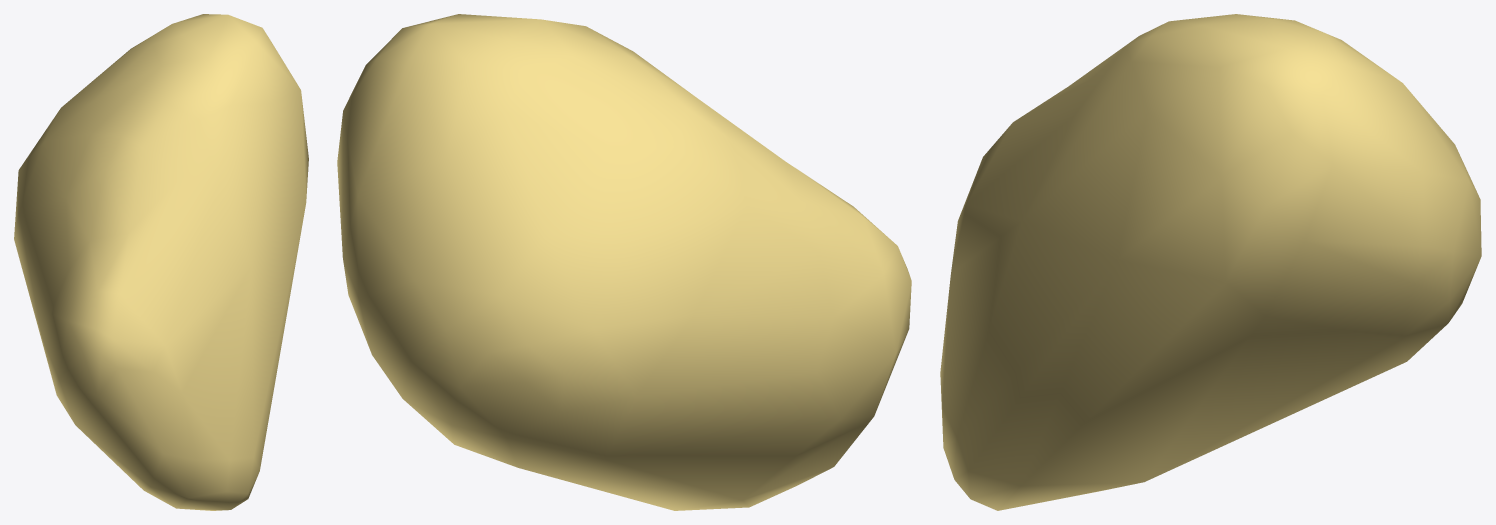
The picture shows the model from 3 angles, left to right: view 1: azimuth 30°, elevation 25°; view 2: azimuth 150°, elevation 25°; view 3: azimuth 270°, elevation 25°; orthographic projection. The views are drawn at different scales.
Parts seen in each view (by area): view 1: ZA_dcbb4c9fb436d315; view 2: ZA_dcbb4c9fb436d315; view 3: ZA_dcbb4c9fb436d315.
Part boxes in pixels (x1=…): ZA_dcbb4c9fb436d315: x1=14, y1=14, x2=308, y2=510; ZA_dcbb4c9fb436d315: x1=337, y1=14, x2=911, y2=510; ZA_dcbb4c9fb436d315: x1=940, y1=14, x2=1481, y2=510.
Size of the model in its own units: 0.00633 by 0.00744 by 0.00686.
